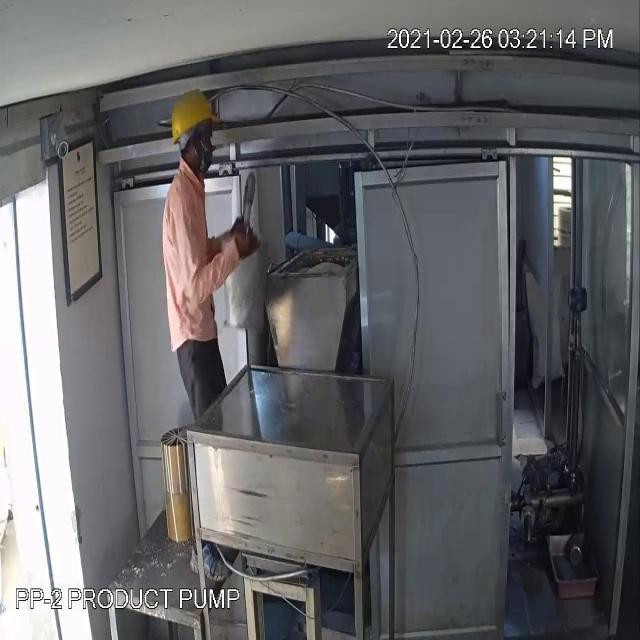helmet: (162, 88, 226, 153)
